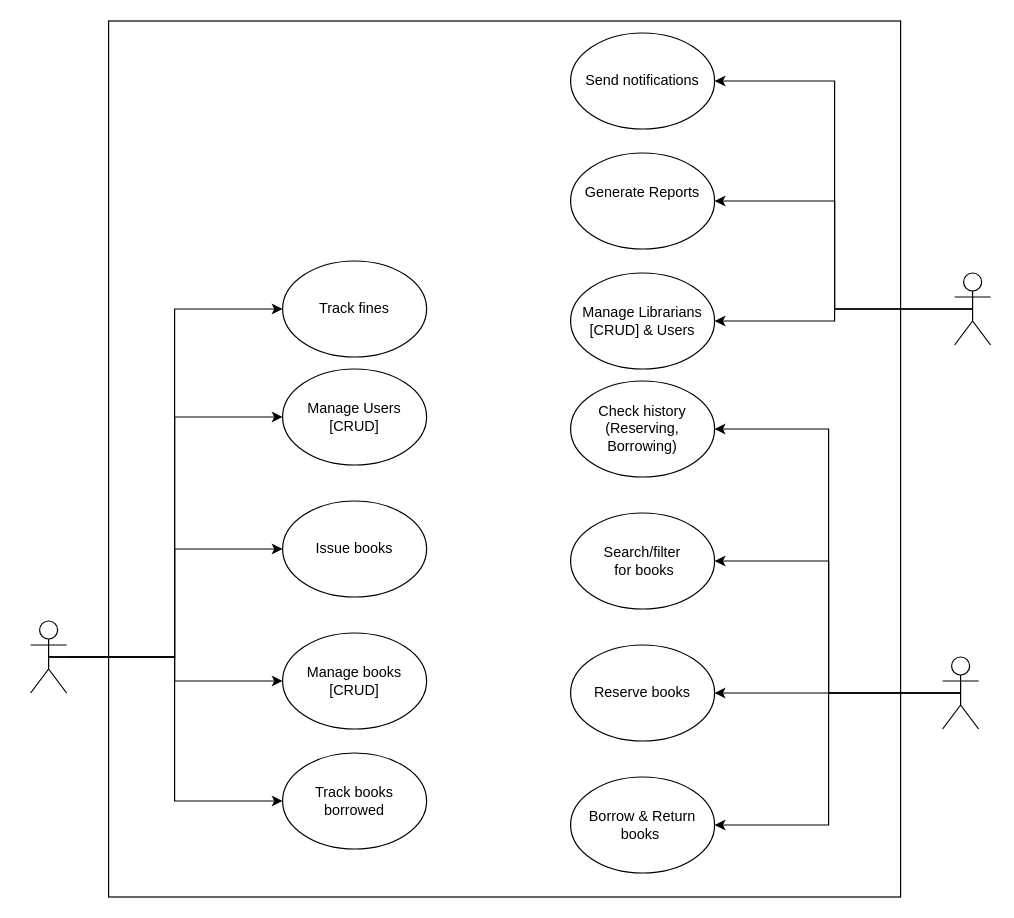
Image size: 1014x918. Some labels were removed from this diagram. The shapes that lost their labels are listed below. From the top down, each one's centre as x and y in pixels, then its label:
(972,308): Admin
(48,656): Librarian
(960,692): User
